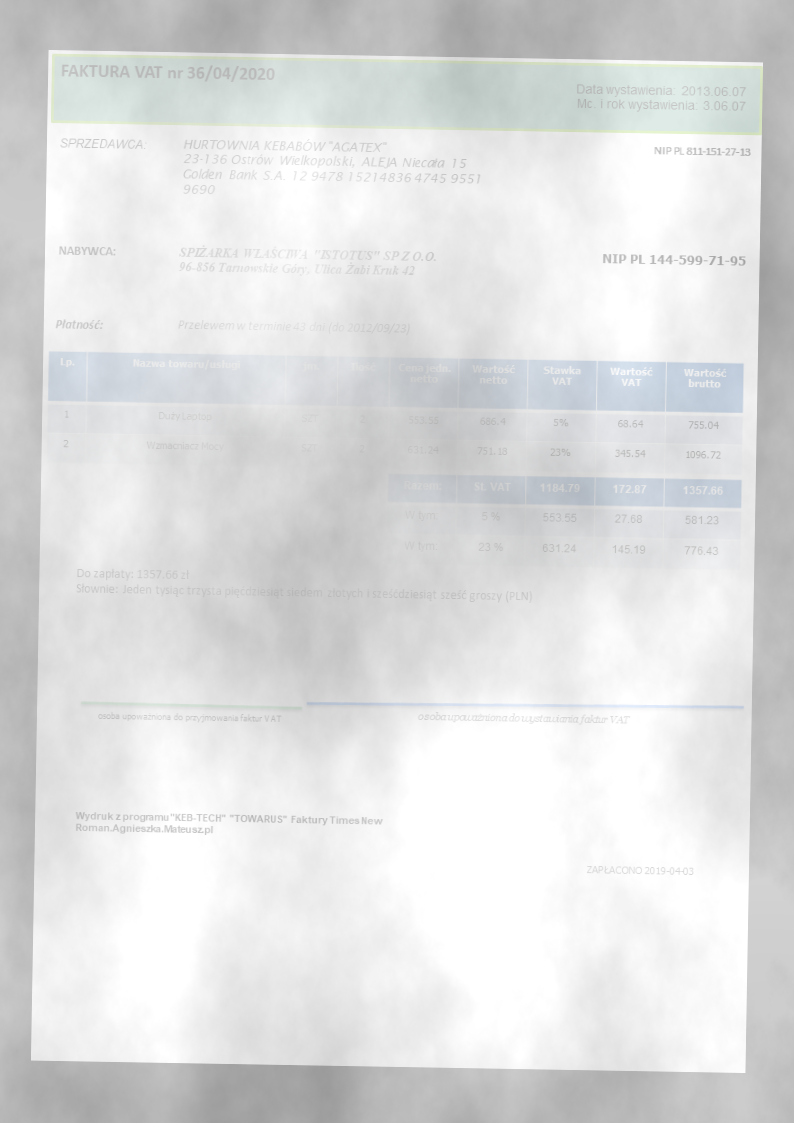Table: (45, 349, 745, 475), (385, 474, 742, 571)
TextBox: (179, 135, 484, 204), (73, 565, 535, 608), (74, 808, 385, 840), (176, 243, 438, 279), (572, 81, 749, 116), (58, 60, 277, 85), (174, 316, 411, 336), (415, 708, 632, 728), (96, 710, 284, 725), (599, 251, 746, 268), (583, 861, 696, 879), (58, 132, 147, 152), (651, 143, 753, 159), (56, 243, 119, 258), (53, 316, 105, 333)
